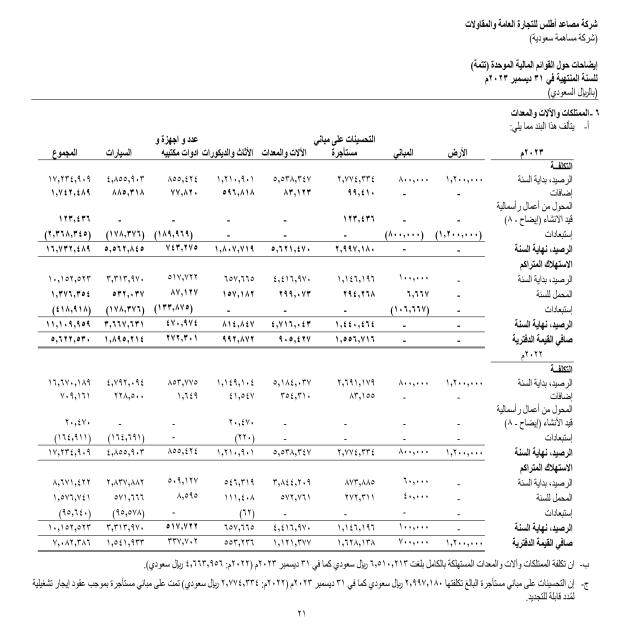notes: (468, 58, 602, 74)
table: (23, 130, 596, 560)
